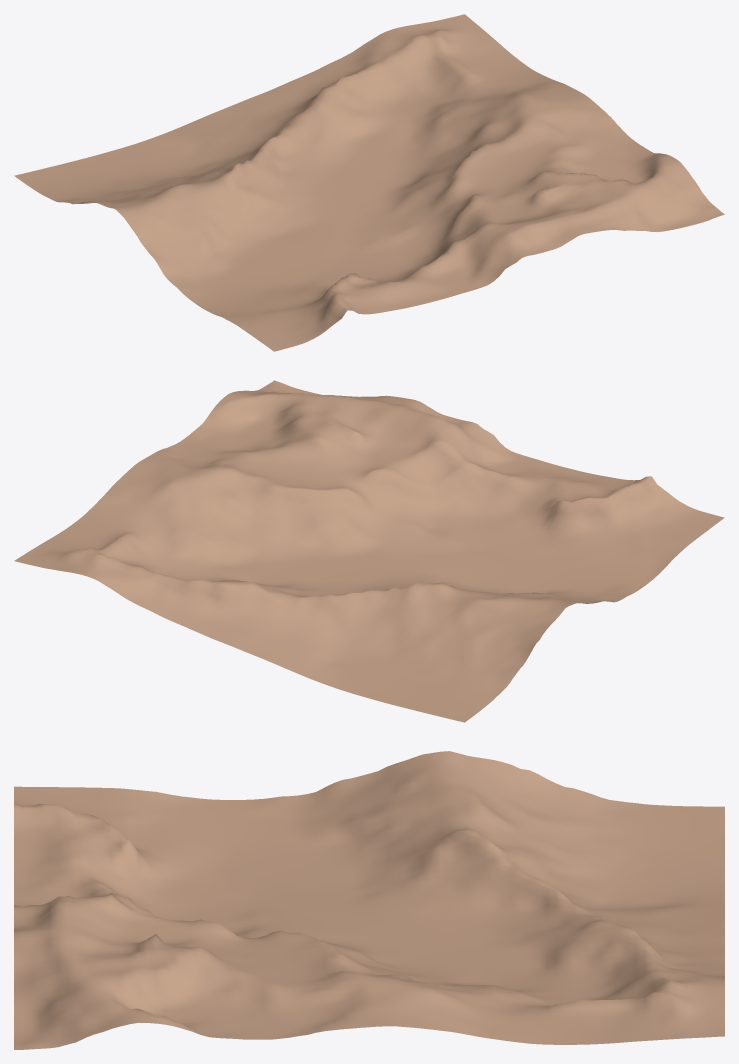
3 views of the same model, one above another, from view 1: azimuth 30°, elevation 25°; view 2: azimuth 150°, elevation 25°; view 3: azimuth 270°, elevation 25° (orthographic). The views are drawn at different scales.
Visible parts, largest first — view 1: DM_lod_2; view 2: DM_lod_2; view 3: DM_lod_2.
Boxes of the visible parts, x1,y1,x2,y2 form: DM_lod_2: (14,14,724,351); DM_lod_2: (14,380,724,722); DM_lod_2: (14,751,724,1049).
Bounding box in the file's own units: 300 × 39.42 × 300.
